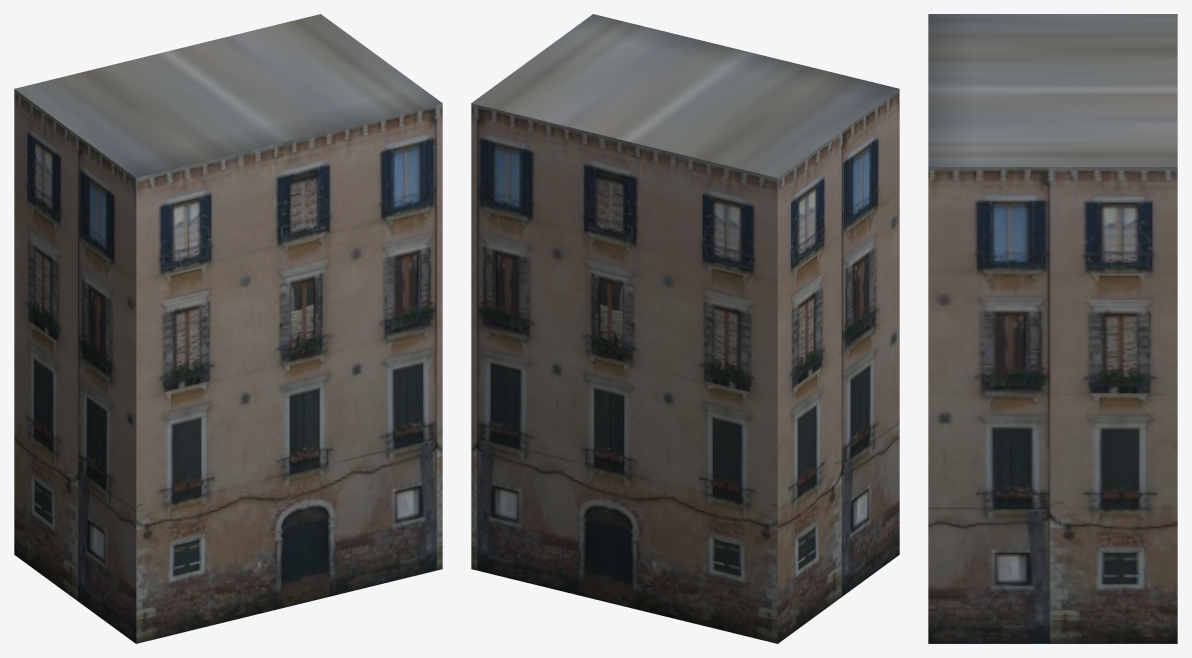
Rendered from building.house_05.glb.
3 renders of one model, left to right at view 1: azimuth 30°, elevation 25°; view 2: azimuth 150°, elevation 25°; view 3: azimuth 270°, elevation 25°, orthographic. The views are drawn at different scales.
Visible parts, largest first — view 1: Cube014; view 2: Cube014; view 3: Cube014.
Part boxes in pixels (x1,y1,x2,y2): Cube014: [14, 14, 442, 643]; Cube014: [471, 14, 899, 643]; Cube014: [928, 14, 1177, 643].
Bounding box in the file's own units: 5.82 × 8.46 × 4.01.
1 material, 1 textured.
